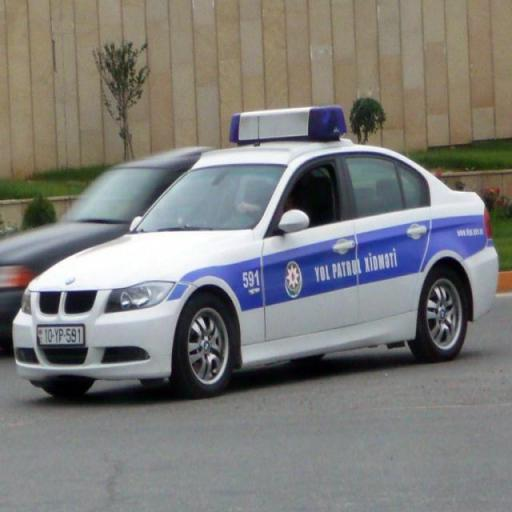Ambulance: (14, 106, 499, 392)
